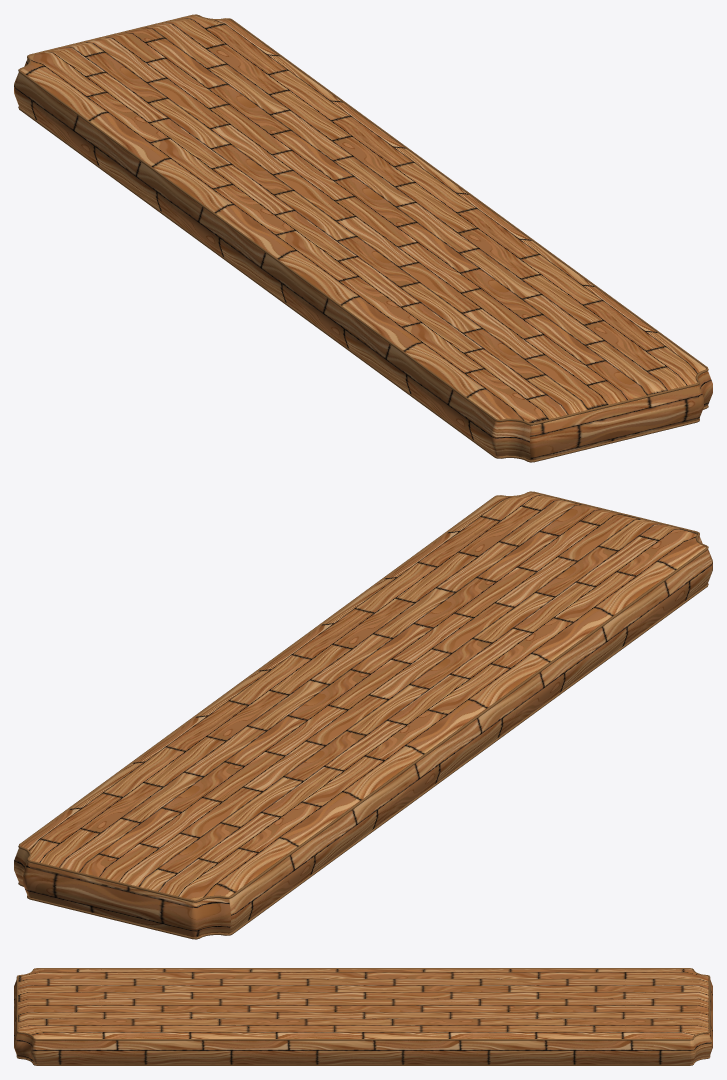
File: SM_FoamFloor_1x4.fbx
3 renders of one model, top to bottom at view 1: azimuth 30°, elevation 25°; view 2: azimuth 150°, elevation 25°; view 3: azimuth 270°, elevation 25°, orthographic. The views are drawn at different scales.
Visible parts, largest first — view 1: SM_SoftFoam_Floor_20cm_1x4; view 2: SM_SoftFoam_Floor_20cm_1x4; view 3: SM_SoftFoam_Floor_20cm_1x4.
Part boxes in pixels (box(x1,y1,x2,y2)): SM_SoftFoam_Floor_20cm_1x4: box(14, 14, 712, 462); SM_SoftFoam_Floor_20cm_1x4: box(14, 491, 712, 939); SM_SoftFoam_Floor_20cm_1x4: box(14, 968, 712, 1065).
Bounding box in the file's own units: 100 × 20 × 400.
